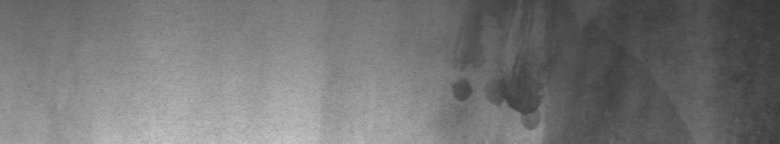fi: (449, 4, 552, 136)
